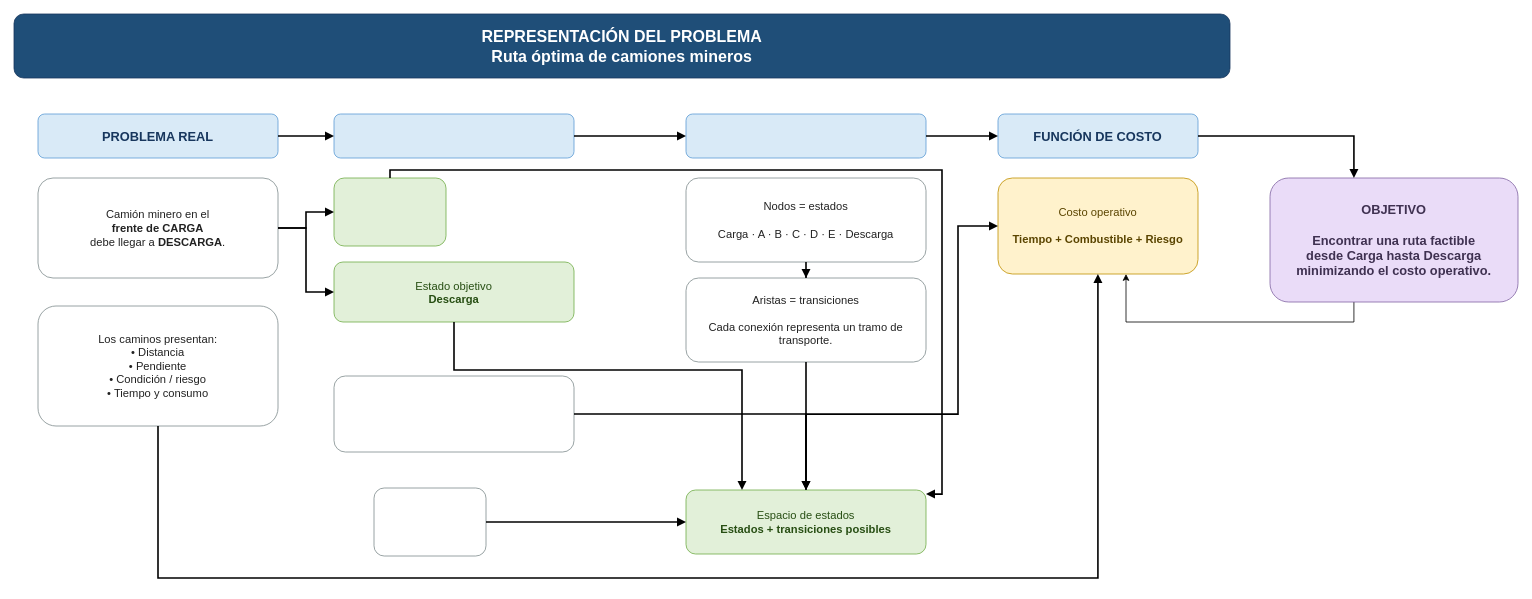
Some shapes in this 1532 by 599 pixel diagram are drawn without their labels. Here are the shapes that lost their labels. From the top down, the centre of each, then its label:
At [453,135]: "ABSTRACCIÓN PARA IA".
At [805,135]: "MODELO COMO GRAFO".
At [389,211]: "Estado inicial Carga".
At [453,413]: "Restricciones Solo se permiten conexiones definidas en la red.".
At [429,521]: "Acciones Desplazarse hacia un nodo conectado".
